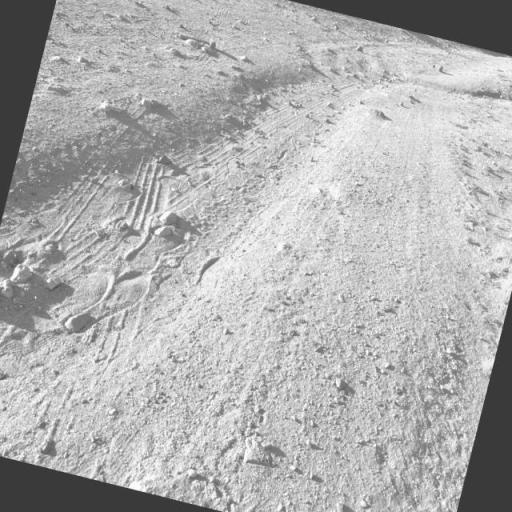bottle: (428, 56, 448, 74)
mallet: (174, 22, 222, 52)
